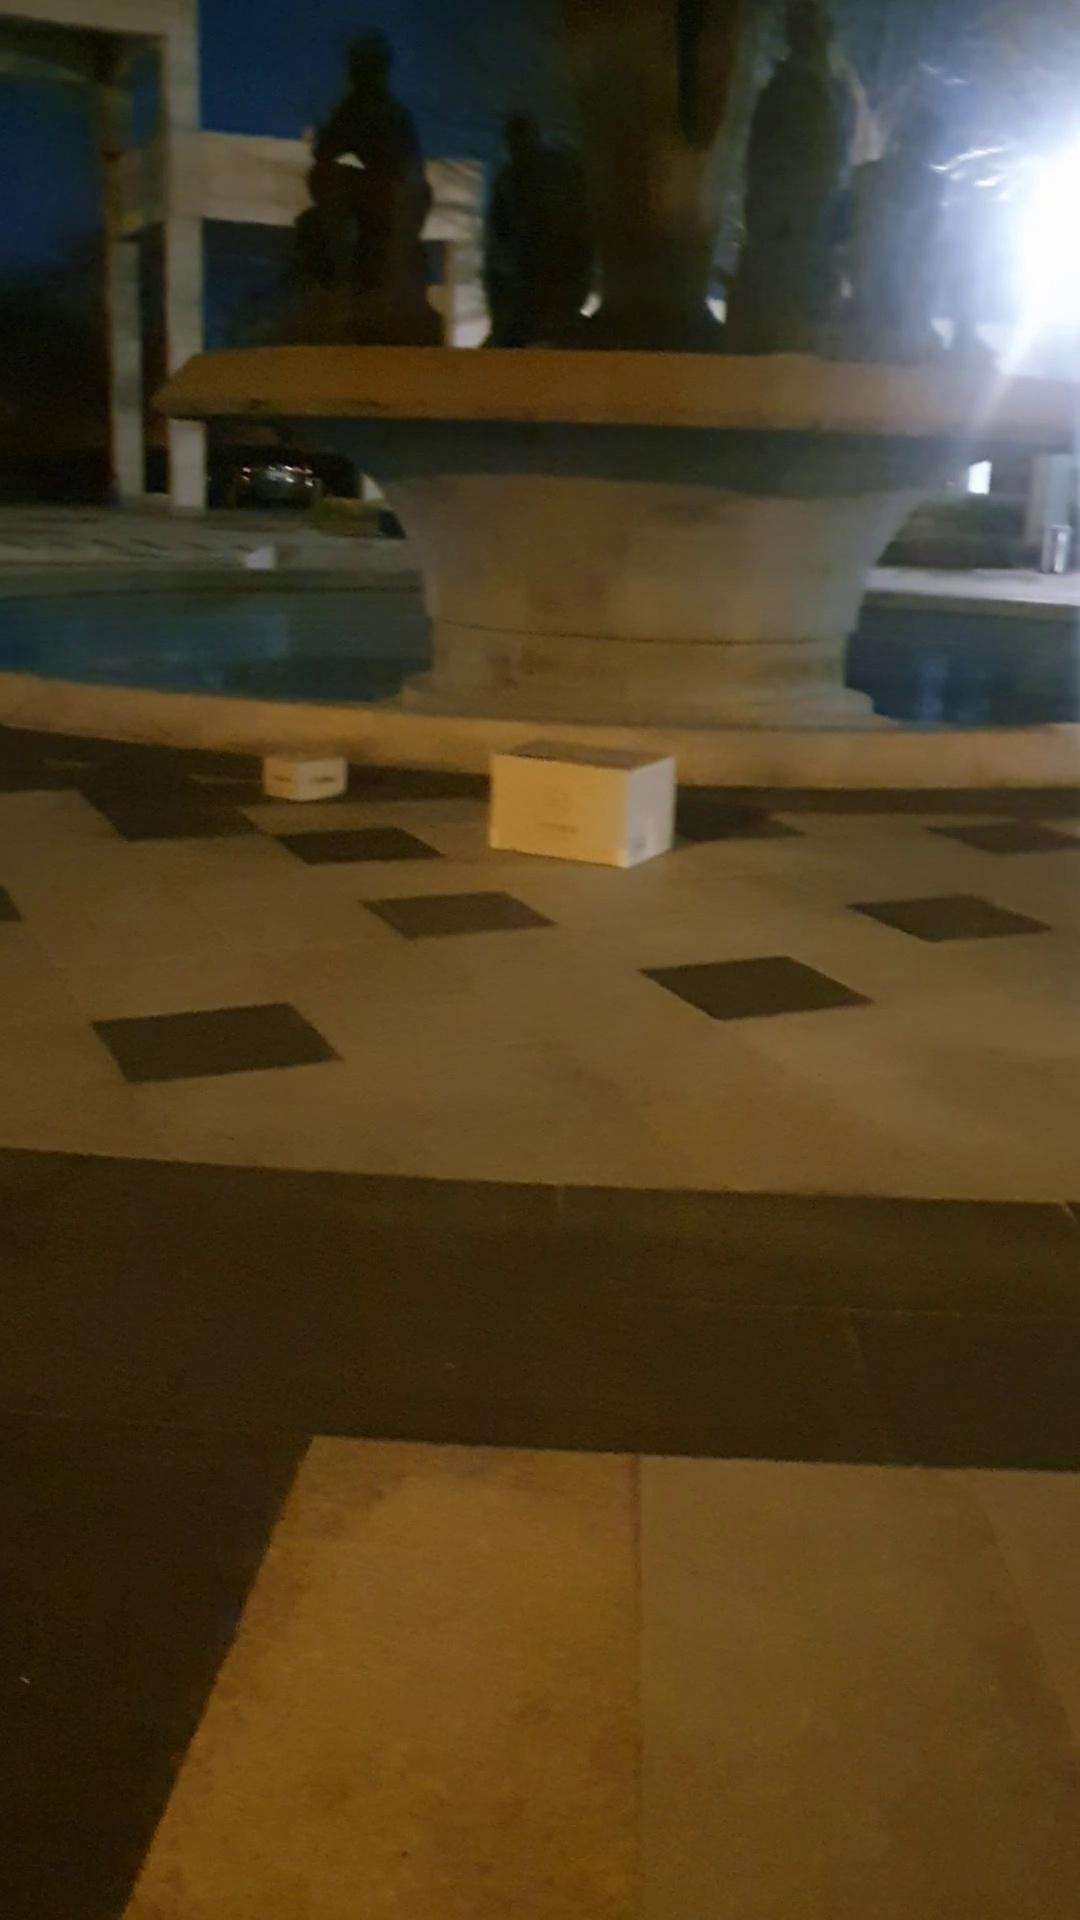Box: (465, 733, 682, 873), (251, 723, 360, 810)
